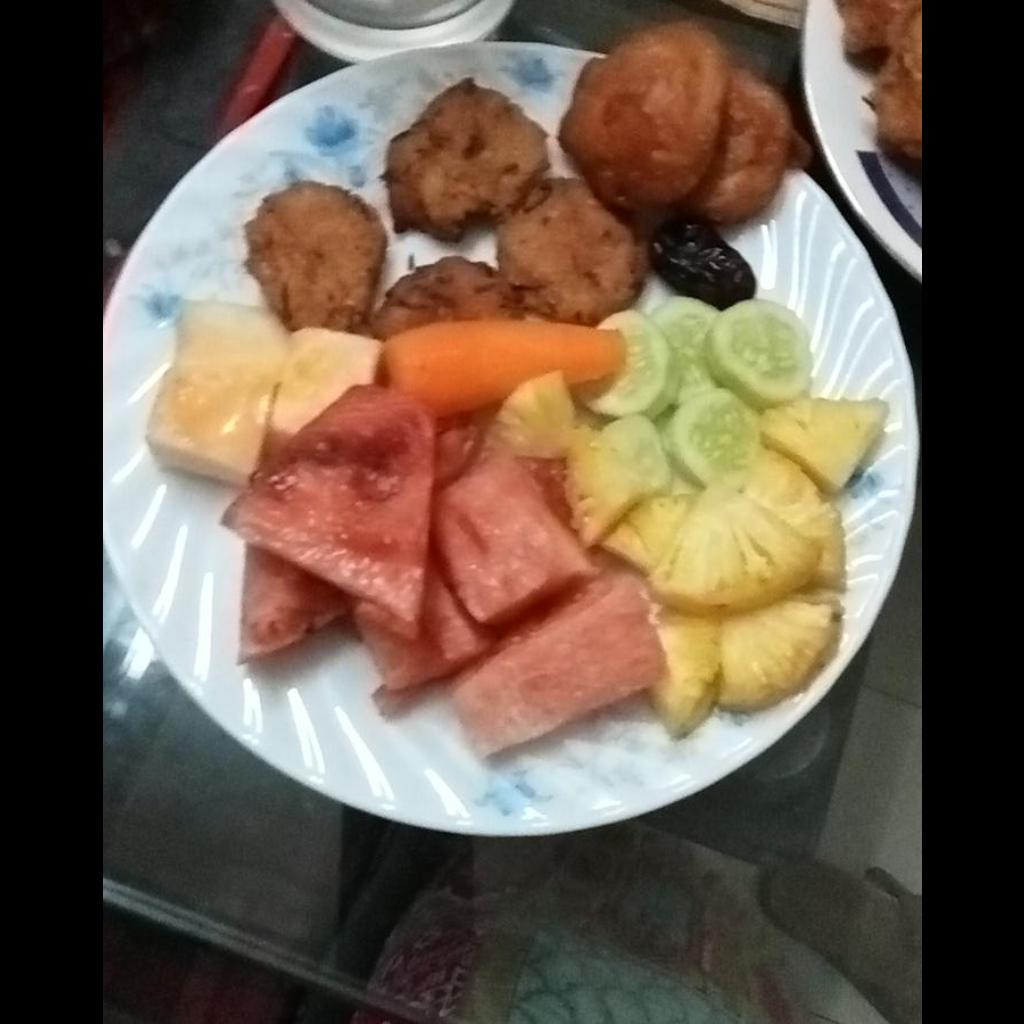carrot: (388, 319, 625, 408)
chop-alu: (567, 24, 784, 225)
cucumber: (593, 299, 823, 488)
dates: (647, 209, 756, 306)
papaya: (146, 302, 378, 486)
peyaju: (241, 79, 635, 333)
pineapple: (491, 376, 889, 734)
watermelon: (225, 385, 663, 751)
